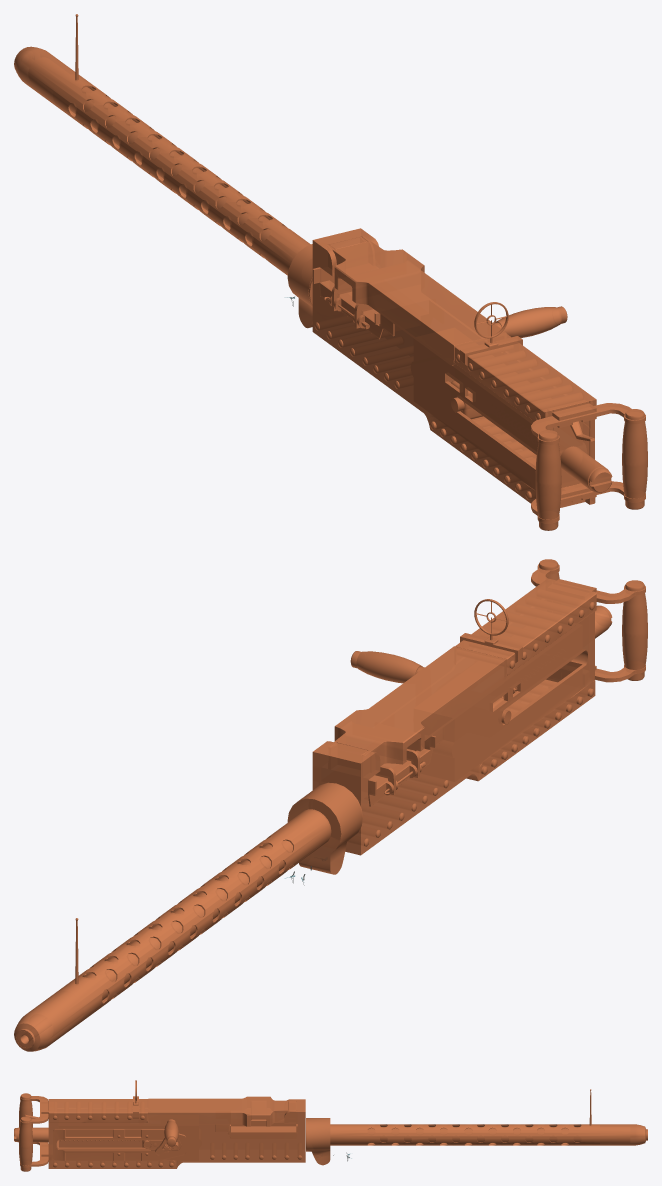
File: distilled-reference.glb
The picture shows the model from 3 angles, top to bottom: view 1: azimuth 30°, elevation 25°; view 2: azimuth 150°, elevation 25°; view 3: azimuth 270°, elevation 25°; orthographic projection. The views are drawn at different scales.
Parts seen in each view (by area): view 1: mechanism.donor_body.source_n018, mechanism.donor_barrel.source_n020, mechanism.cocking_handle.source_n016; view 2: mechanism.donor_body.source_n018, mechanism.donor_barrel.source_n020, mechanism.cocking_handle.source_n016; view 3: mechanism.donor_body.source_n018, mechanism.donor_barrel.source_n020, mechanism.cocking_handle.source_n016, mechanism.bolt.source_n014.
Boxes of the visible parts, <box> form: mechanism.donor_body.source_n018: <box>312,228,647,530</box>; mechanism.donor_barrel.source_n020: <box>14,14,312,328</box>; mechanism.cocking_handle.source_n016: <box>495,306,567,337</box>; mechanism.donor_body.source_n018: <box>312,559,647,855</box>; mechanism.donor_barrel.source_n020: <box>14,782,362,1051</box>; mechanism.cocking_handle.source_n016: <box>350,651,424,683</box>; mechanism.donor_body.source_n018: <box>14,1080,305,1171</box>; mechanism.donor_barrel.source_n020: <box>306,1089,647,1165</box>; mechanism.cocking_handle.source_n016: <box>155,1119,178,1156</box>; mechanism.bolt.source_n014: <box>142,1140,181,1150</box>.
Size of the model in its own units: 23.13 by 20.51 by 145.
